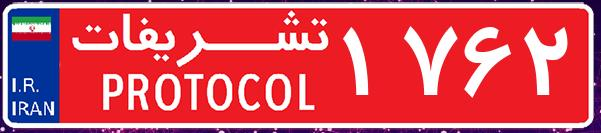1: (340, 20, 400, 115)
2: (520, 20, 580, 115)
6: (460, 20, 520, 115)
7: (400, 20, 460, 115)
تشریفات: (60, 8, 340, 125)
